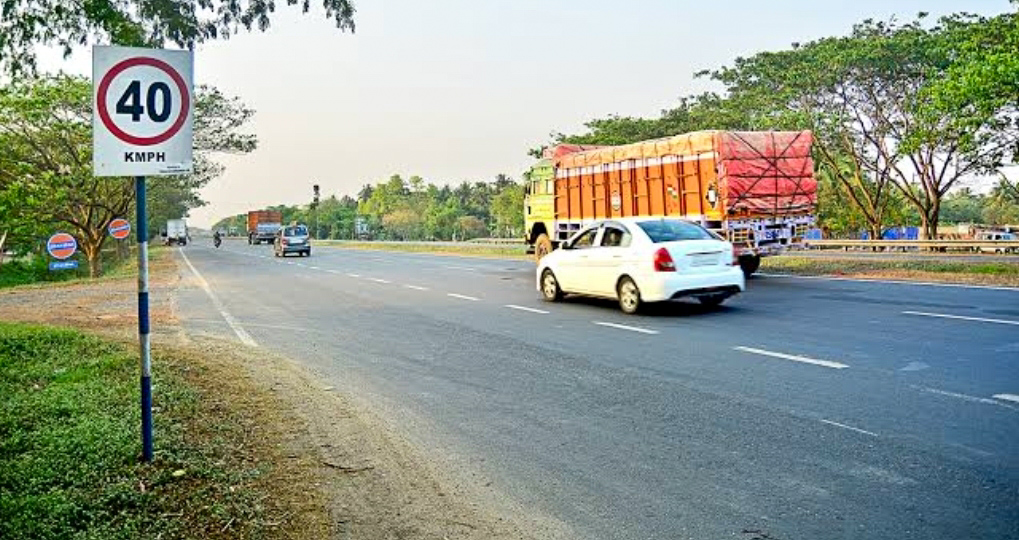traffic_sign: (92, 44, 192, 176)
